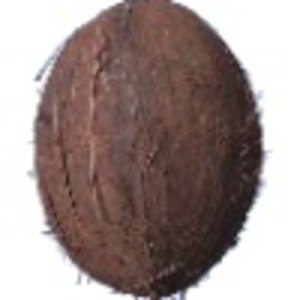coco: (34, 1, 268, 300)
